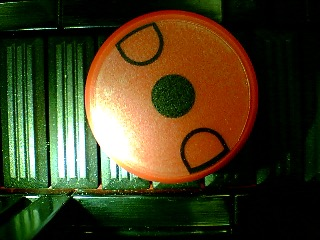BOHOMIPO2: (85, 9, 259, 183)
